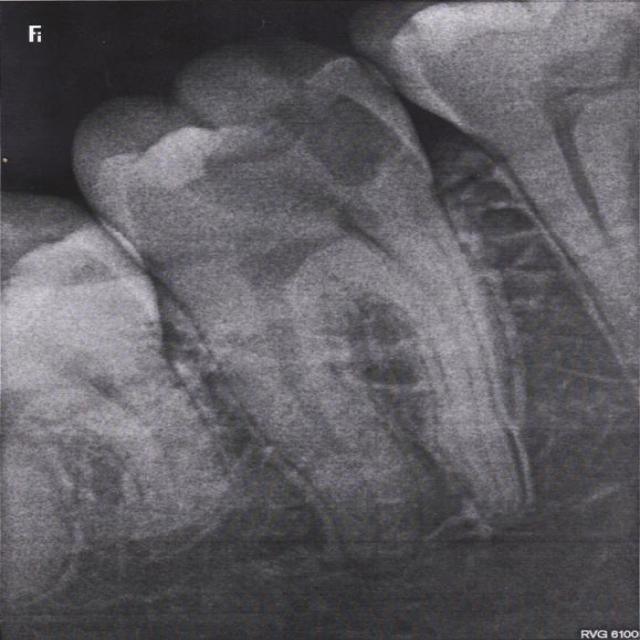Caries: (80, 29, 530, 566)
